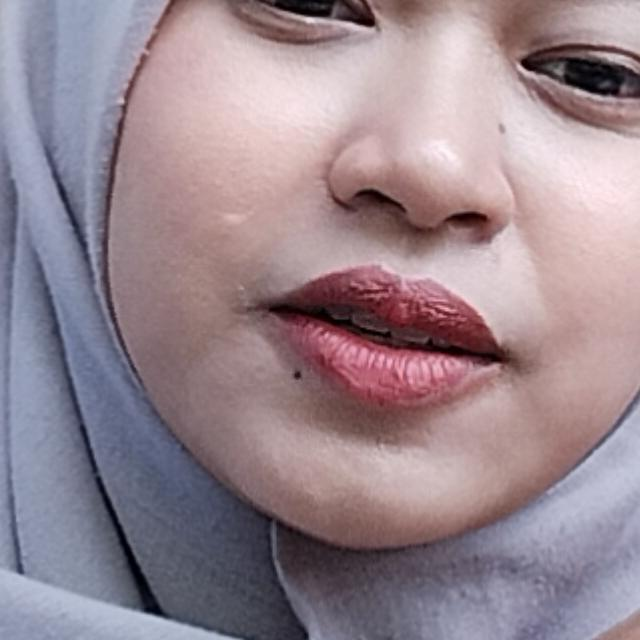tidur: (116, 318, 640, 640)
